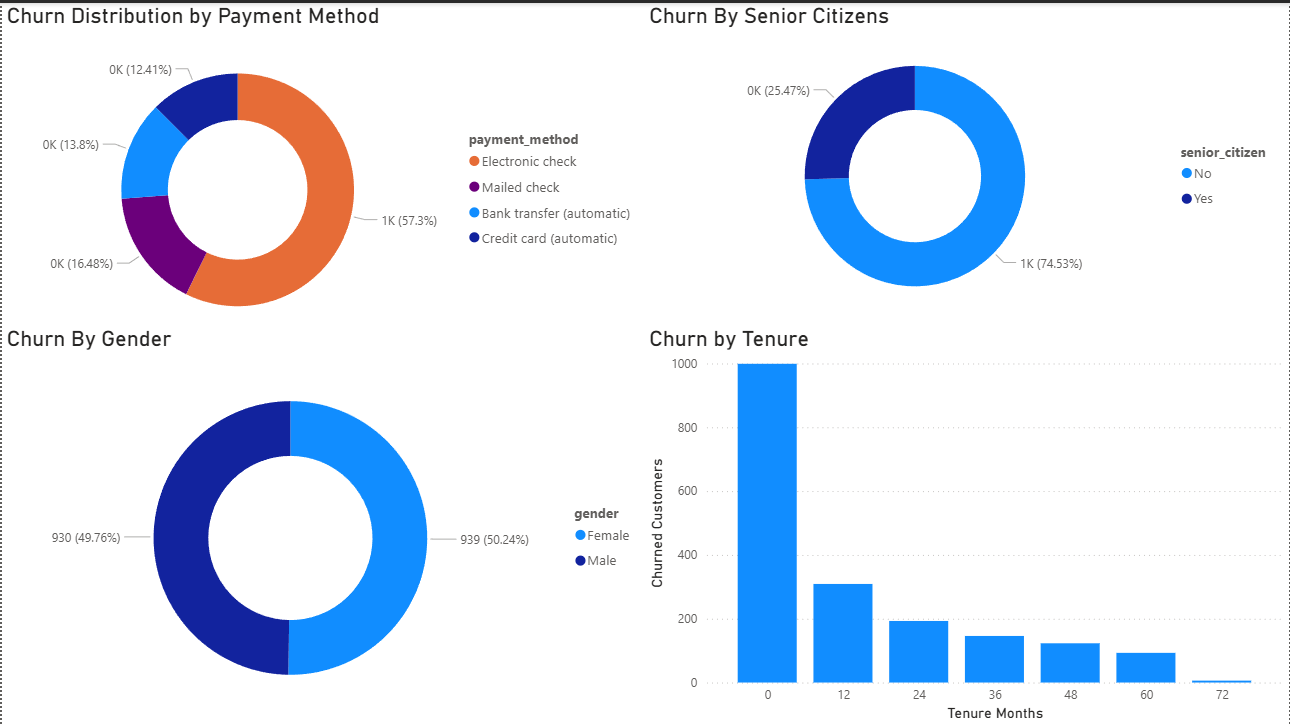

What the dashboard file says about the page in this screenshot:
{"tool":"powerbi","page":{"name":"Customer Demographics","canvas":[1280,720],"ordinal":1},"visuals":[{"type":"donutChart","title":"Churn Distribution by Payment Method","fields":{"Category":["cleaned_churn_data.payment_method"],"Y":["cleaned_churn_data.Churned Customers"]},"box":[0,0,639.4,348.3],"z":0},{"type":"donutChart","title":"Churn By Gender","fields":{"Category":["cleaned_churn_data.gender"],"Y":["cleaned_churn_data.Churned Customers"]},"box":[0,320.9,639.4,399.3],"z":1000},{"type":"donutChart","title":"Churn By Senior Citizens","fields":{"Y":["cleaned_churn_data.Churned Customers"],"Category":["cleaned_churn_data.senior_citizen"]},"box":[639.4,0,640.6,320.9],"z":2000},{"type":"clusteredColumnChart","title":"Churn by Tenure","fields":{"Y":["cleaned_churn_data.Churned Customers"],"Category":["cleaned_churn_data.Tenure Months"]},"box":[639.4,320.9,640.6,399.3],"z":2001}]}

Visuals, with their boxes in screenshot pixels (x1, y1, x2, y2), scaled from the page's 1280x720 canvas onto the 1290x725 screenshot:
"Churn Distribution by Payment Method" donutChart: {"left": 0, "top": 0, "right": 644, "bottom": 351}
"Churn By Gender" donutChart: {"left": 0, "top": 323, "right": 644, "bottom": 724}
"Churn By Senior Citizens" donutChart: {"left": 644, "top": 0, "right": 1289, "bottom": 323}
"Churn by Tenure" clusteredColumnChart: {"left": 644, "top": 323, "right": 1289, "bottom": 724}
